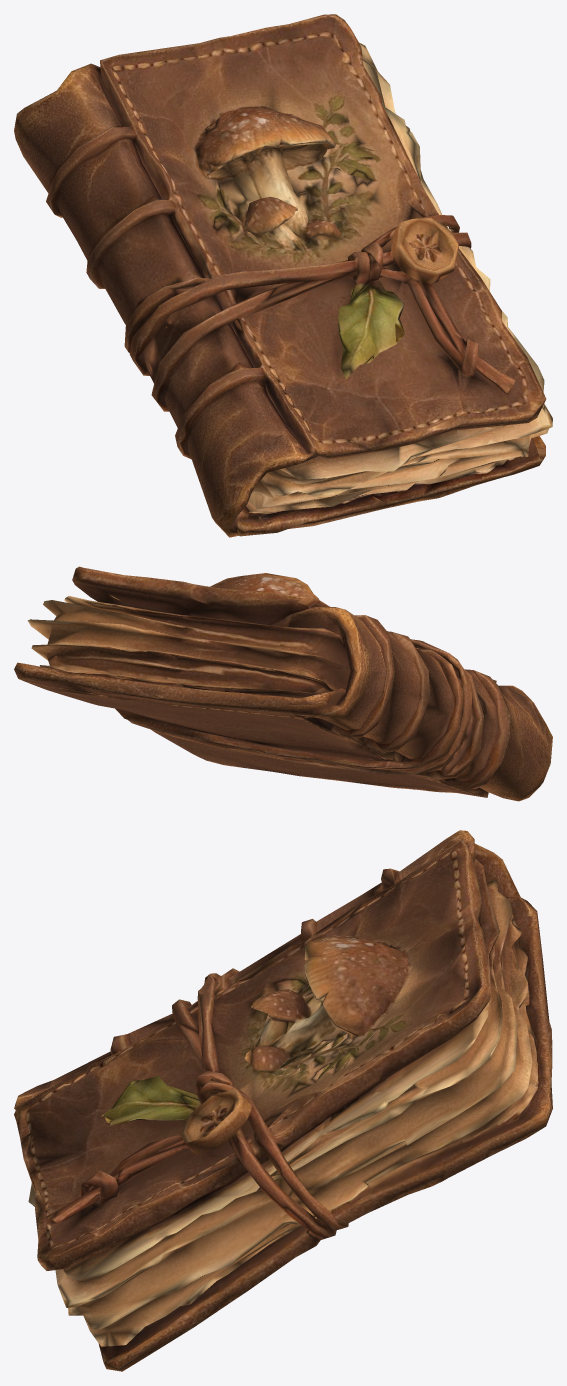
Rendered from market-note.glb.
3 views of the same model, one above another, from view 1: azimuth 30°, elevation 25°; view 2: azimuth 150°, elevation 25°; view 3: azimuth 270°, elevation 25° (orthographic). The views are drawn at different scales.
Parts seen in each view (by area): view 1: tripo_node_be220347-ccda-4ad4-89e4-250ac103668d; view 2: tripo_node_be220347-ccda-4ad4-89e4-250ac103668d; view 3: tripo_node_be220347-ccda-4ad4-89e4-250ac103668d.
Boxes of the visible parts, box(x1,y1,x2,y2) form: tripo_node_be220347-ccda-4ad4-89e4-250ac103668d: box(14, 14, 552, 537); tripo_node_be220347-ccda-4ad4-89e4-250ac103668d: box(14, 566, 552, 801); tripo_node_be220347-ccda-4ad4-89e4-250ac103668d: box(14, 830, 552, 1371).
Size of the model in its own units: 0.8168 by 0.7775 by 0.9779.
1 material, 1 textured.
